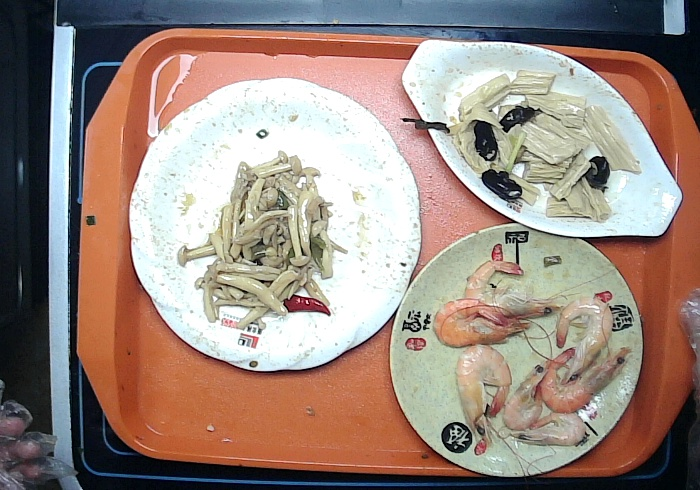NLDX-Bai_Zhe_Yuan_Pan: (121, 71, 422, 379)
NLDX-Fu_Zi_Yuan_Pan: (385, 218, 647, 482)
NLDX-Yu_Pan: (400, 37, 688, 244)
